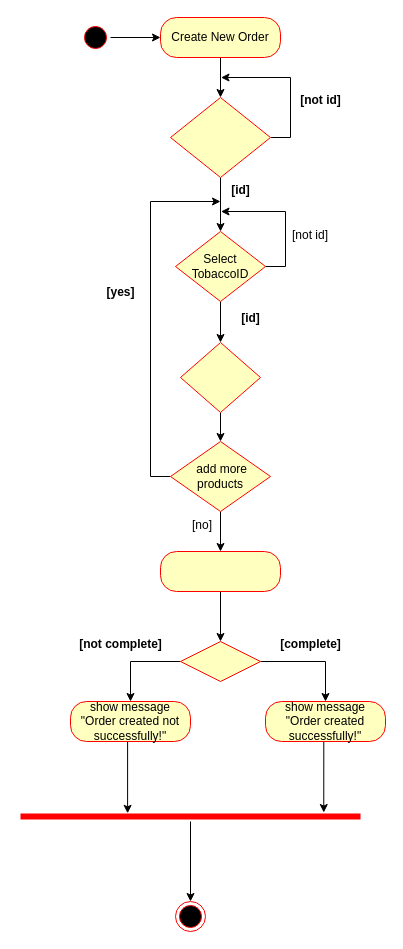
Image size: 403x949. Some labels were removed from this diagram. Each missing label, with the centre of its shape:
create invoice: [220,571]
input quantity: [220,377]
Select CustomerID: [220,137]
